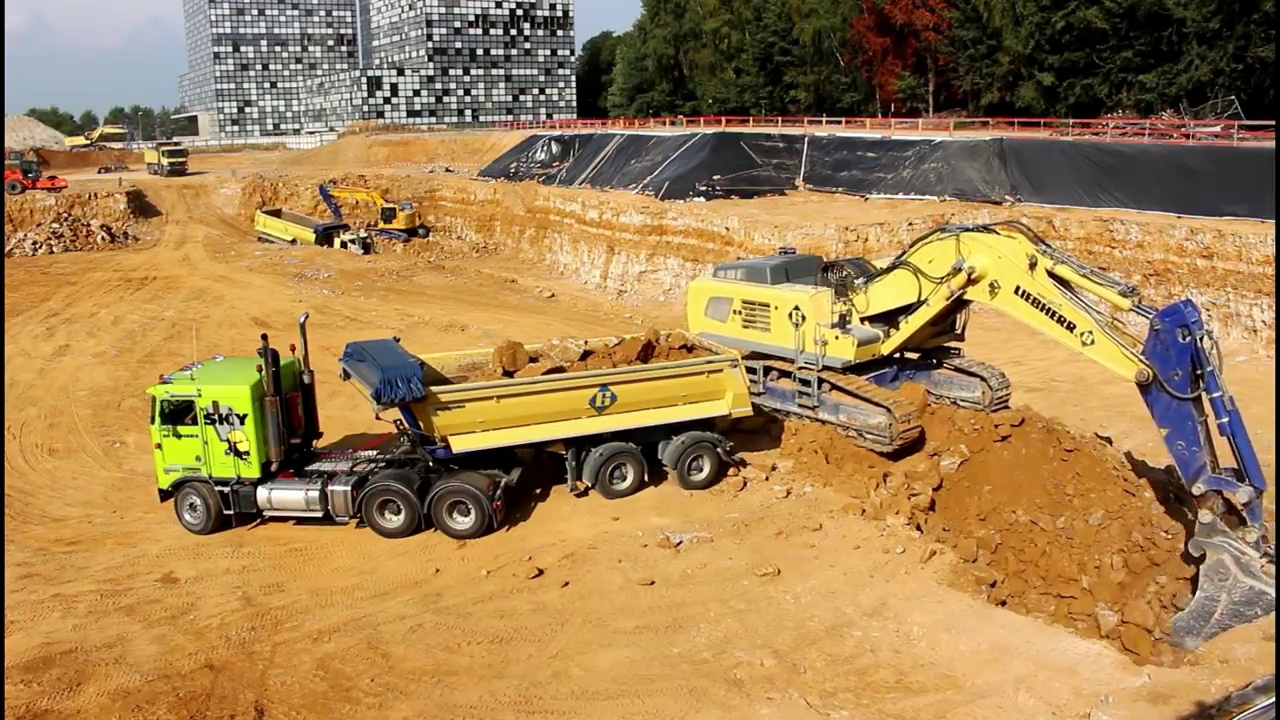compactor: (4, 157, 70, 196)
excavator: (673, 214, 1280, 657), (312, 169, 436, 243), (63, 120, 142, 158)
truck: (140, 306, 761, 547), (250, 202, 378, 275)
